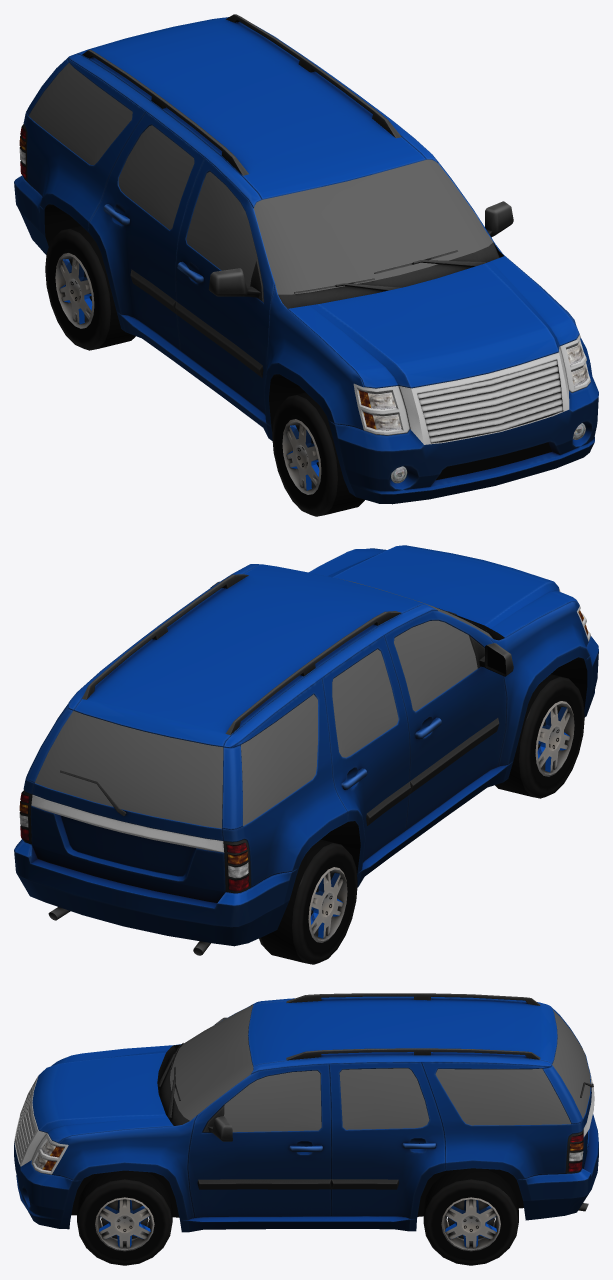
File: SUV.glb
The picture shows the model from 3 angles, top to bottom: view 1: azimuth 30°, elevation 25°; view 2: azimuth 150°, elevation 25°; view 3: azimuth 270°, elevation 25°; orthographic projection. The views are drawn at different scales.
Parts seen in each view (by area): view 1: SUV Body, Wheel_E003, Wheel_E002; view 2: SUV Body, Wheel_E003, Wheel_E002; view 3: SUV Body, Wheel_E001, Wheel_E.
Boxes of the visible parts, x1,y1,x2,y2 form: SUV Body: (14, 14, 598, 504); Wheel_E003: (45, 225, 135, 350); Wheel_E002: (272, 392, 364, 516); SUV Body: (14, 545, 598, 955); Wheel_E003: (259, 839, 357, 964); Wheel_E002: (495, 674, 584, 798); SUV Body: (14, 993, 598, 1232); Wheel_E001: (423, 1168, 518, 1265); Wheel_E: (77, 1170, 172, 1265).
Bounding box in the file's own units: 2.33 × 1.95 × 5.19.
4 materials, 3 textured.
